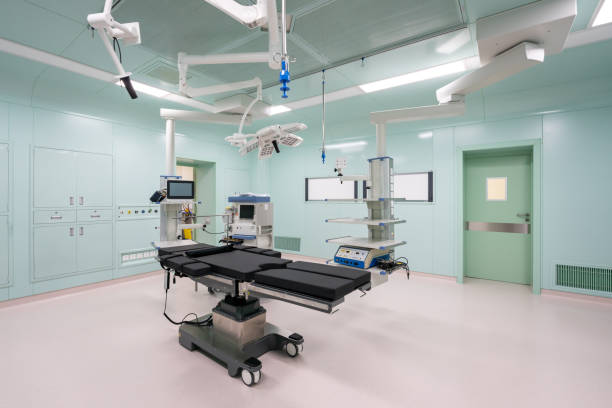bedside_monitor: (163, 180, 197, 200), (237, 202, 259, 220)
door_handle: (517, 214, 530, 218)
electrosurgical_unit: (334, 246, 395, 271)
handle: (89, 214, 103, 220), (79, 226, 86, 236), (69, 227, 76, 237), (78, 197, 85, 206), (69, 197, 76, 206), (49, 215, 63, 219)
operating_bed: (150, 241, 372, 387)
surgical_light: (239, 122, 308, 159)
